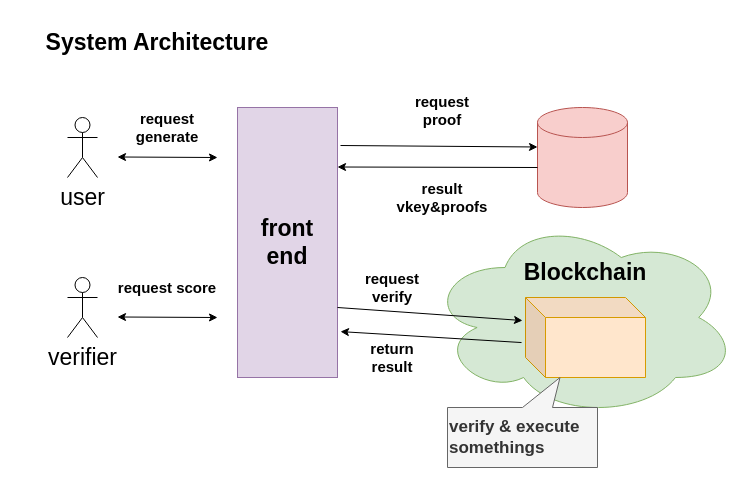
Image size: 755x485. Some labels were removed from this diagram. The shapes that lost their labels are listed below. From the top down, each one's centre as x and y in pixels, then its label:
the point at 582,157: Sindri
the point at 585,337: Smart Contract
